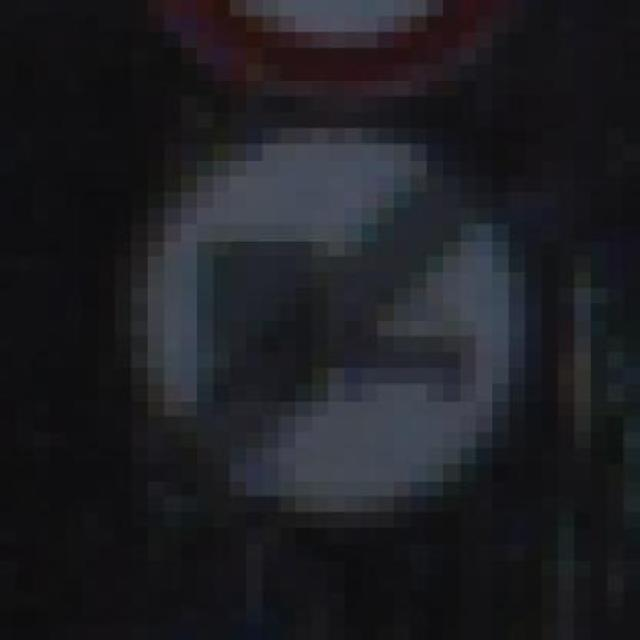Overtaking by trucks is prohibited: (98, 128, 574, 544)
